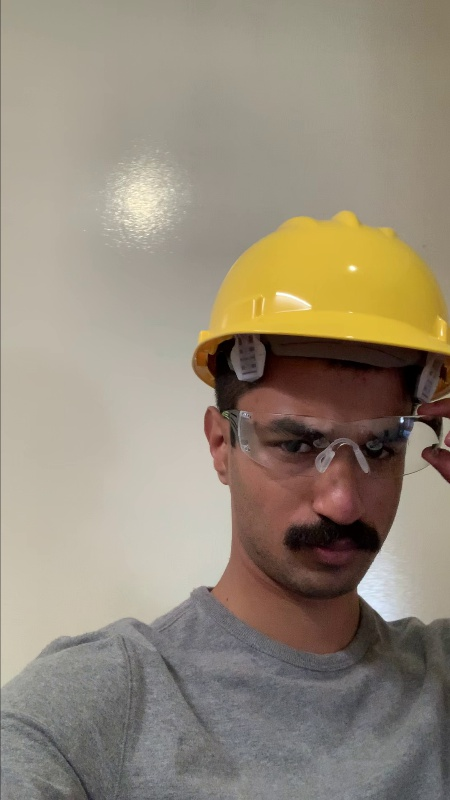glasses: (233, 406, 428, 480)
helmet: (195, 211, 450, 349)
